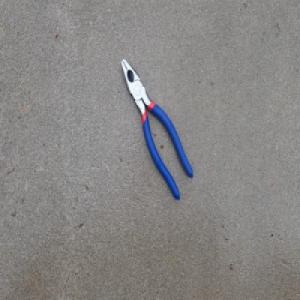Pliers: (119, 56, 194, 202)
